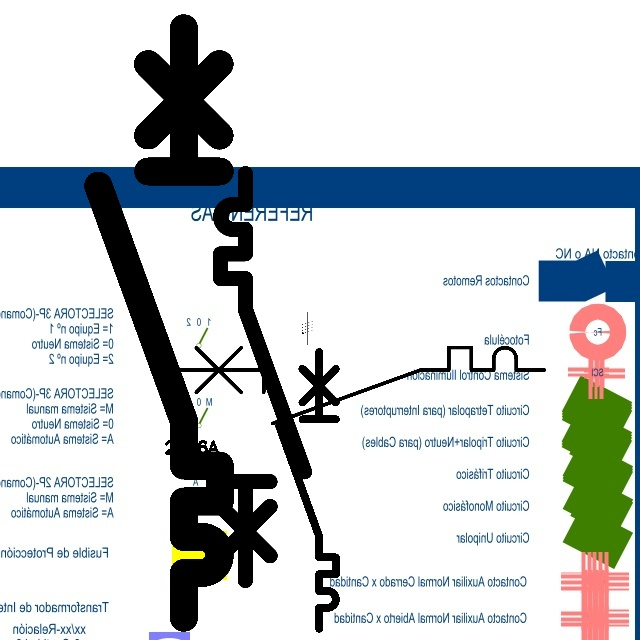interruptor_termomagnetico: (83, 13, 235, 633), (210, 163, 315, 591), (164, 338, 554, 433), (272, 344, 343, 635)
